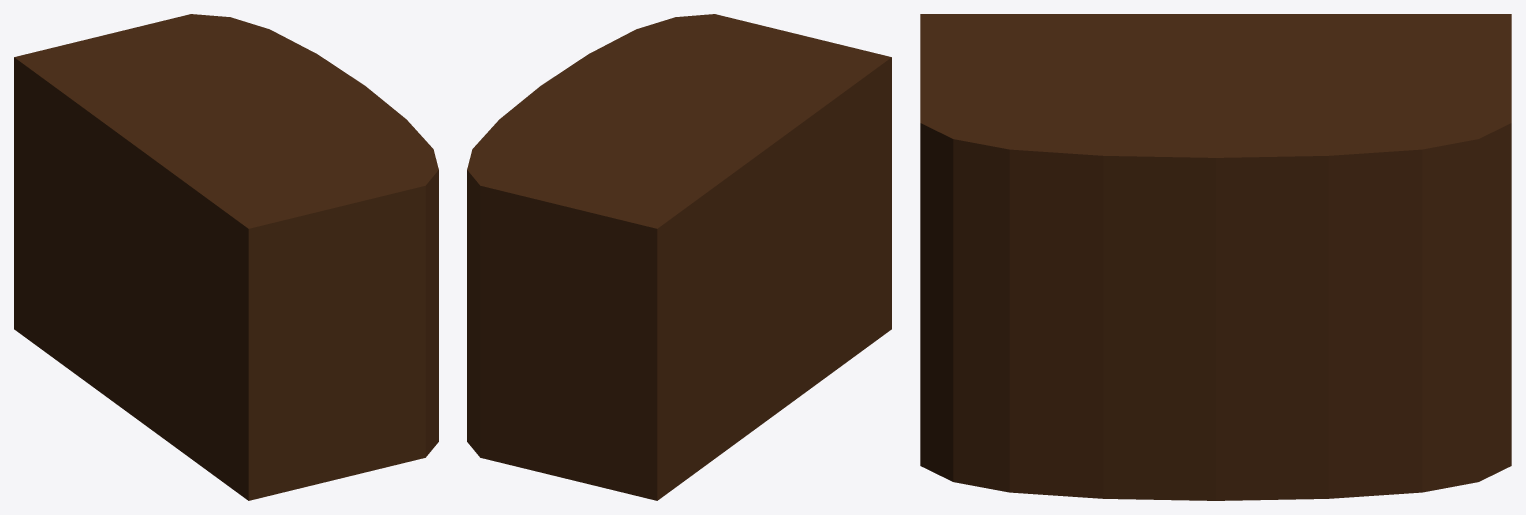
The model's file is Platform_CenterRight.obj.
3 renders of one model, left to right at view 1: azimuth 30°, elevation 25°; view 2: azimuth 150°, elevation 25°; view 3: azimuth 270°, elevation 25°, orthographic. The views are drawn at different scales.
Visible parts, largest first — view 1: Platform_CenterRight.053; view 2: Platform_CenterRight.053; view 3: Platform_CenterRight.053.
Boxes of the visible parts, x1,y1,x2,y2 form: Platform_CenterRight.053: (14,14,438,500); Platform_CenterRight.053: (467,14,891,500); Platform_CenterRight.053: (920,14,1511,500).
Size of the model in its own units: 1.8 by 2 by 3.13.
